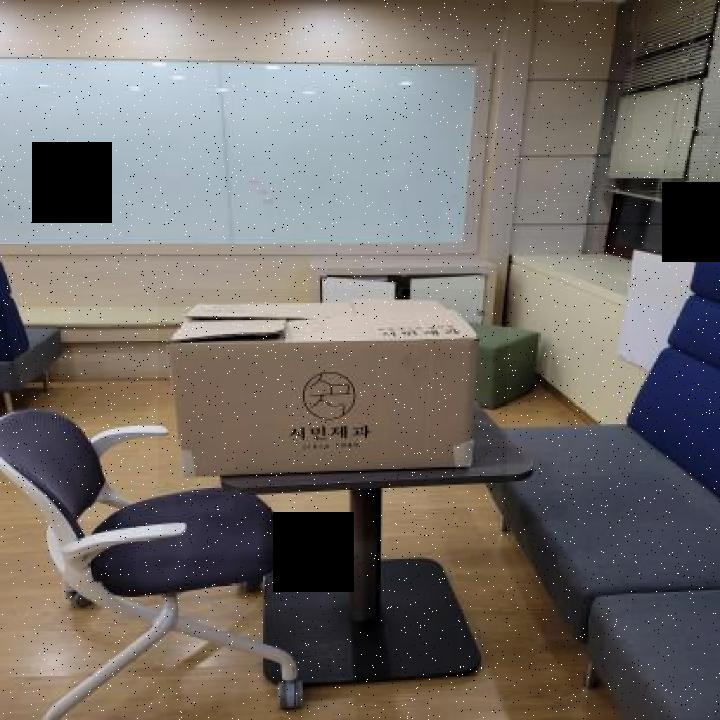box: (158, 289, 507, 492)
